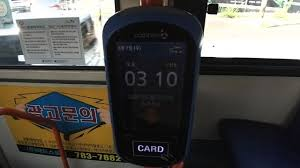terminal: (101, 5, 207, 168)
